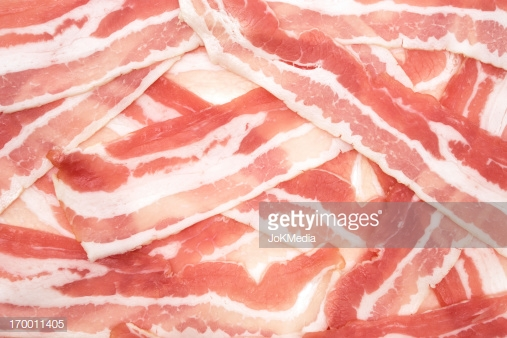bacon: (7, 6, 495, 332)
